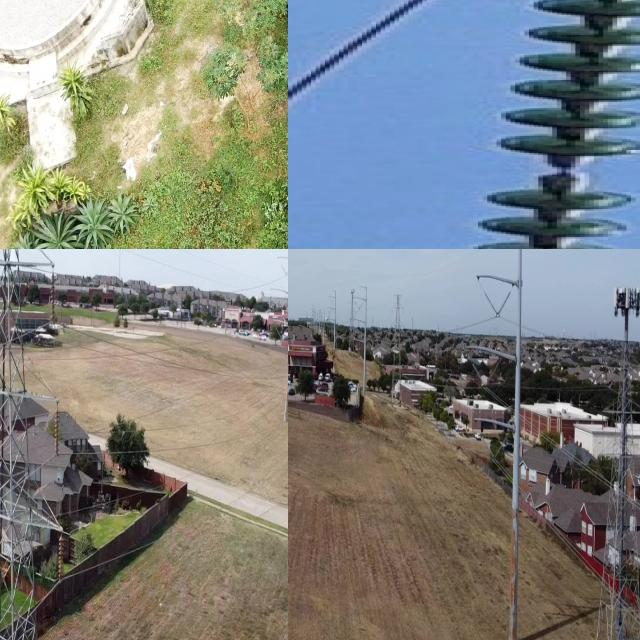杆塔: (0, 249, 54, 640), (584, 300, 640, 640), (390, 290, 405, 407), (346, 286, 356, 354)
正常绝缘子: (450, 0, 640, 249), (491, 282, 517, 327), (468, 350, 490, 395), (480, 281, 502, 324), (54, 527, 67, 590), (49, 262, 60, 333), (490, 429, 511, 465), (482, 358, 502, 395), (52, 398, 63, 461), (477, 430, 497, 464)
绝缘子破损: (536, 159, 591, 180)
